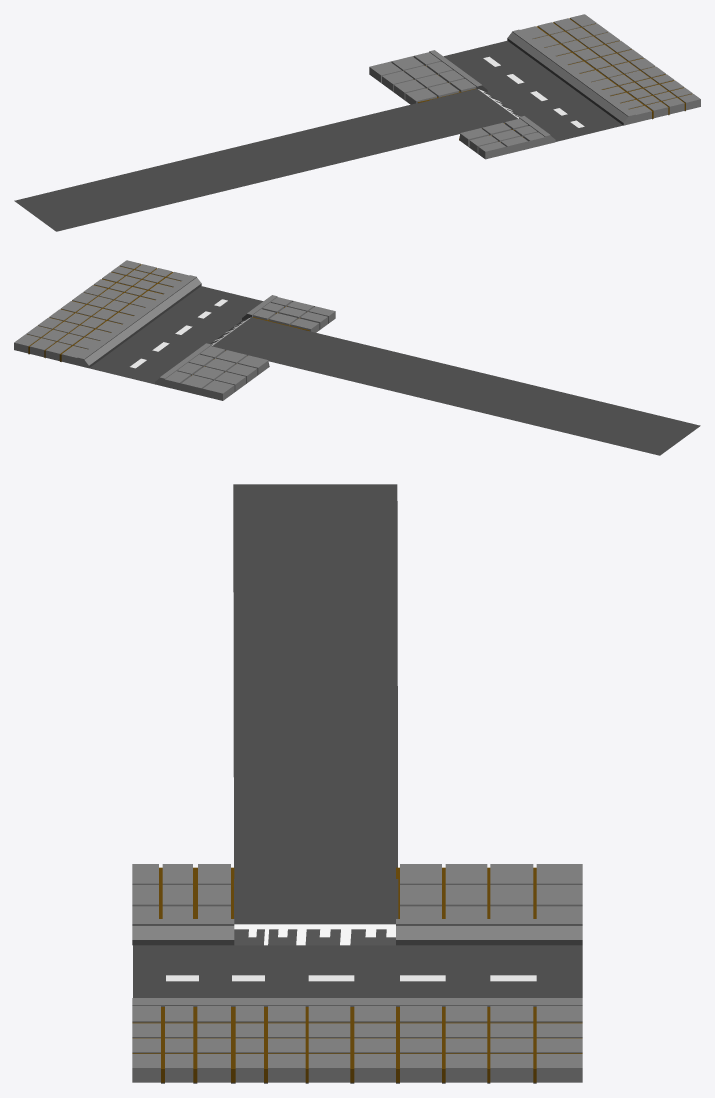
File: weg._met_oprit.fbx
3 renders of one model, top to bottom at view 1: azimuth 30°, elevation 25°; view 2: azimuth 150°, elevation 25°; view 3: azimuth 270°, elevation 25°, orthographic. The views are drawn at different scales.
Visible parts, largest first — view 1: Plane; view 2: Plane; view 3: Plane.
Part boxes in pixels (bbox=[...]): Plane: bbox=[14, 14, 700, 231]; Plane: bbox=[14, 260, 700, 455]; Plane: bbox=[132, 484, 582, 1083].
Size of the model in its own units: 6288 by 87.5 by 2046.
